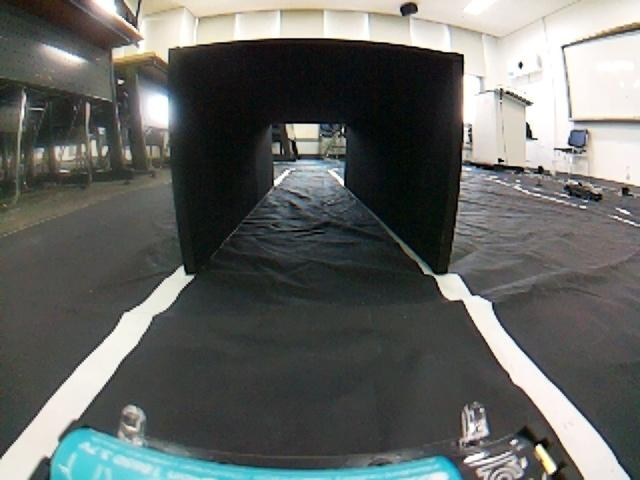straight: (5, 144, 640, 479)
